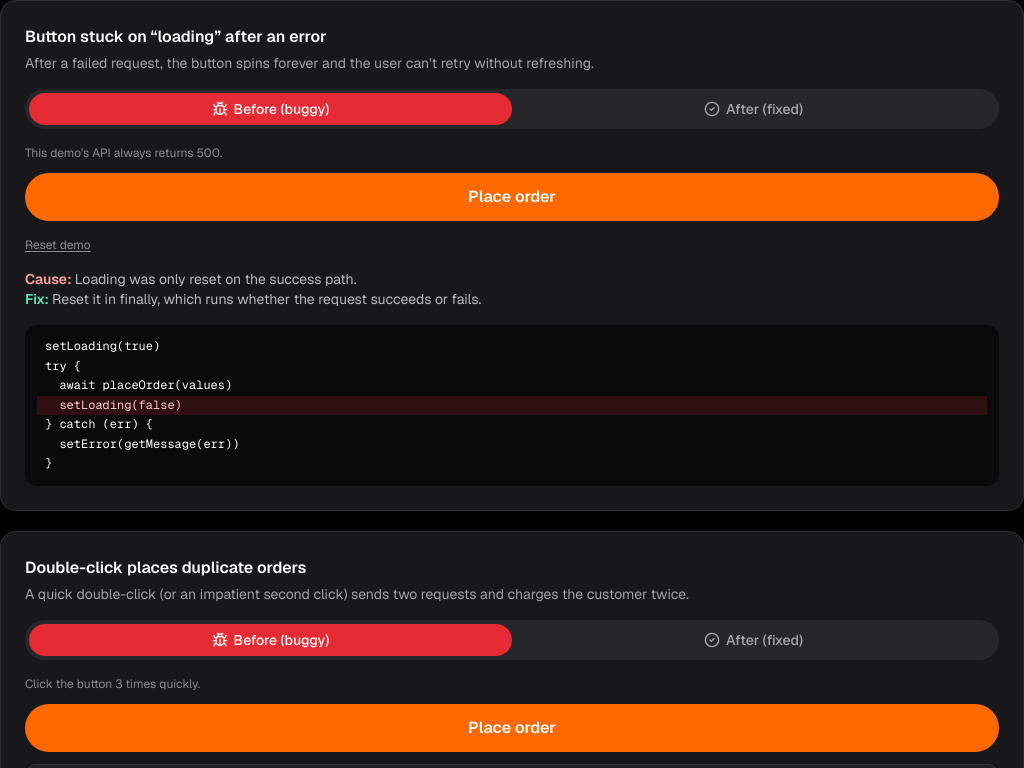
Test case: Bug: button stuck on loading › buggy version stays disabled after the error
Click the button "Place order" below "This demo's API always returns 500.": [512, 197] box [25,173,999,221]
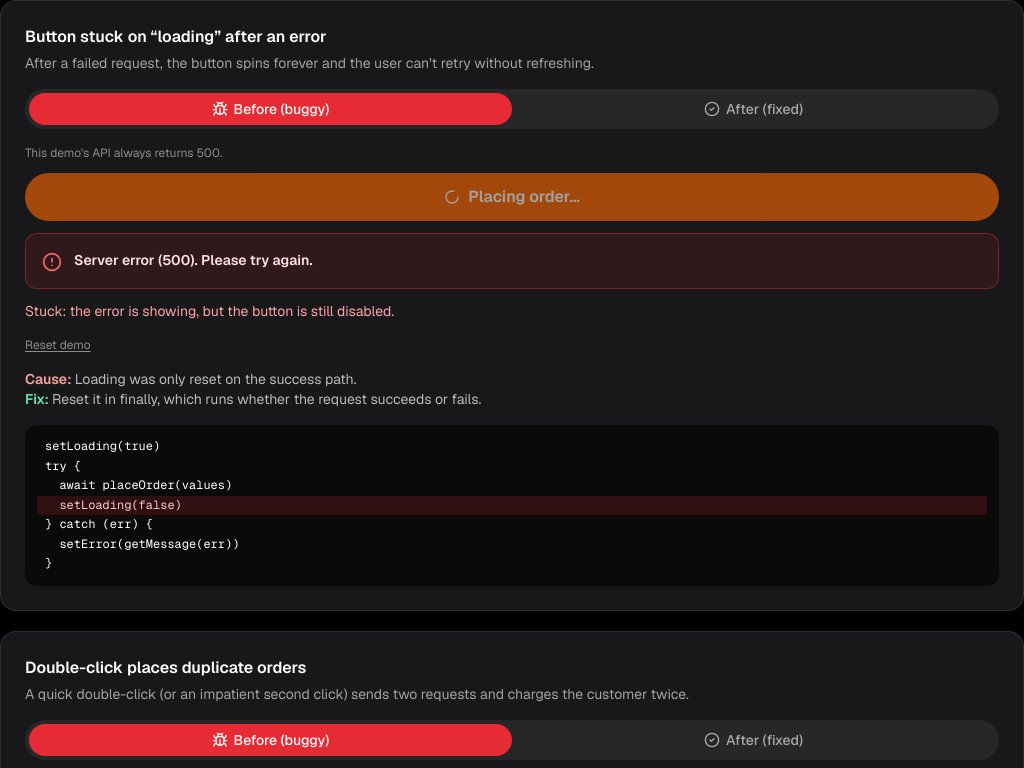
Check: the text "Server error (500). Please try again." is shown, box [74,251,313,269]
Check: the button "Placing order…" is disabled, box [25,173,999,221]
